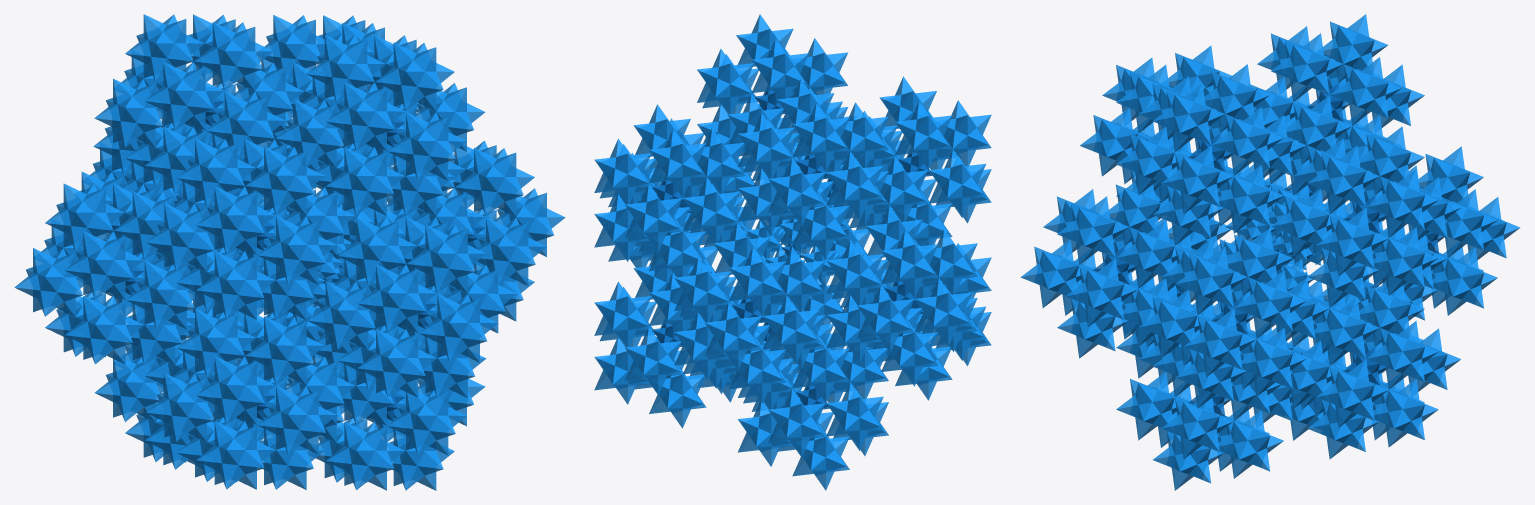
The model's file is fractalsmallstellateddodecahedron2.glb.
The picture shows the model from 3 angles, left to right: view 1: azimuth 30°, elevation 25°; view 2: azimuth 150°, elevation 25°; view 3: azimuth 270°, elevation 25°; orthographic projection. The views are drawn at different scales.
Size of the model in its own units: 12.01 by 10.49 by 12.01.
